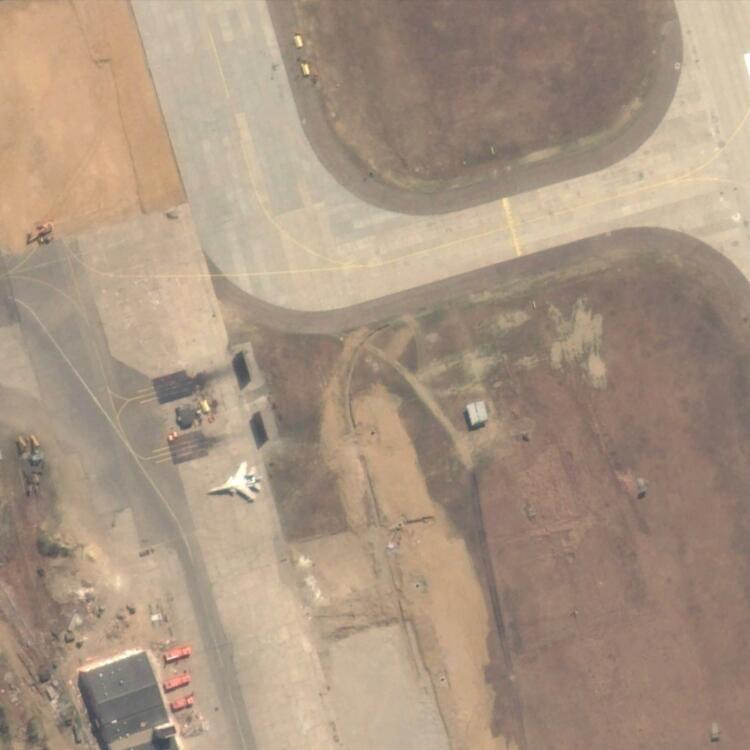A19: (205, 456, 264, 505)
